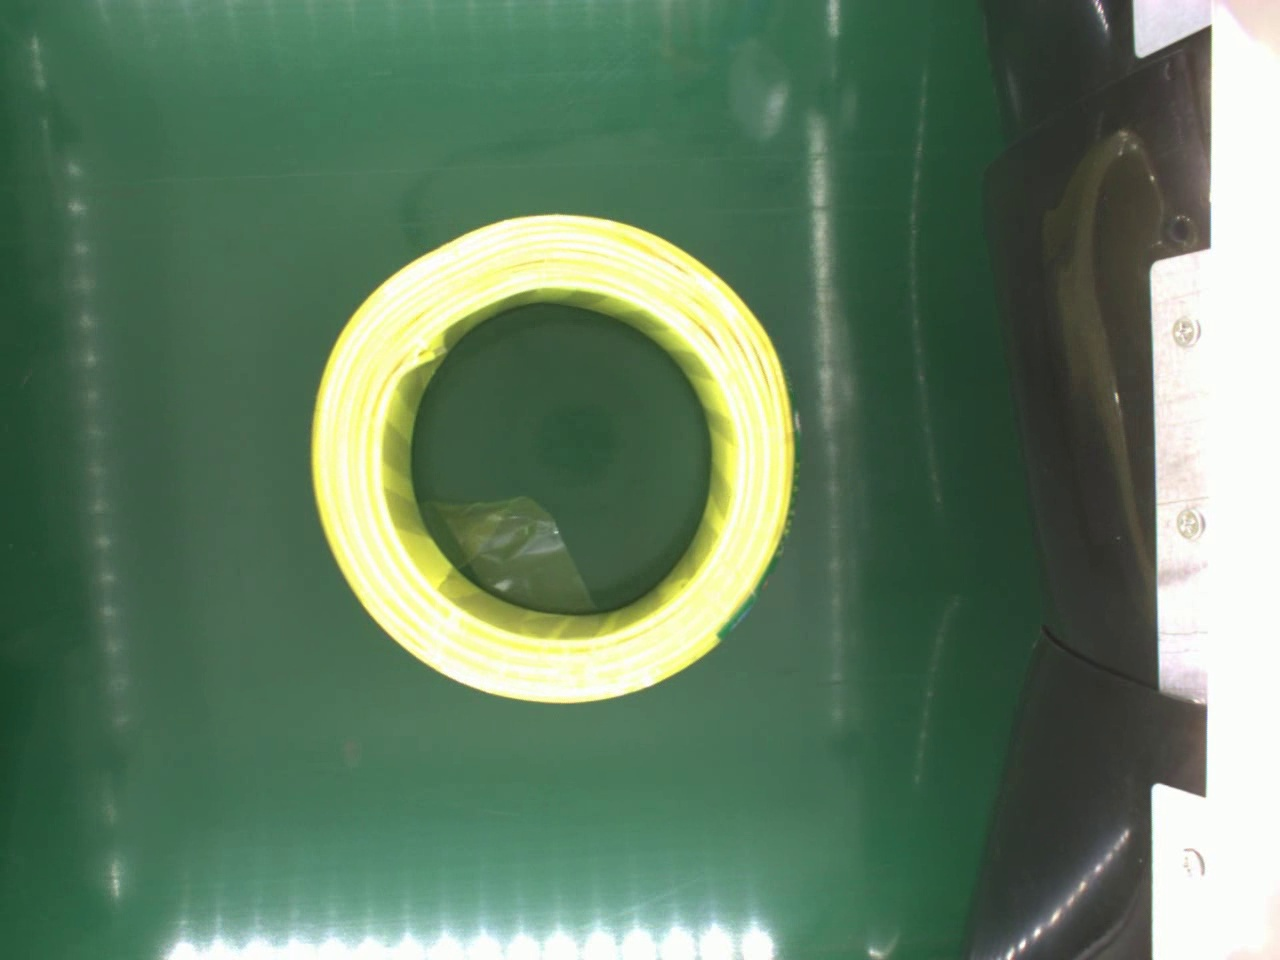yellow: (305, 205, 805, 710)
